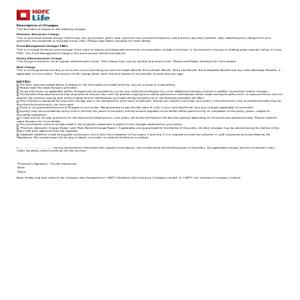image: (12, 6, 57, 21)
text: (14, 79, 286, 141), (16, 160, 244, 181), (16, 64, 283, 76), (13, 143, 281, 154), (15, 44, 282, 55), (15, 32, 273, 43), (15, 56, 238, 64), (14, 22, 87, 31)
